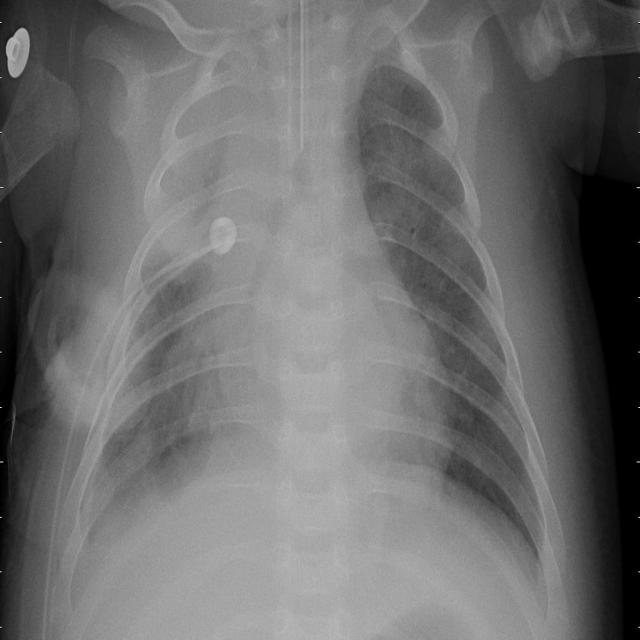high-pneumonia: (77, 38, 259, 527)
low-pneumonia: (361, 117, 444, 287)
